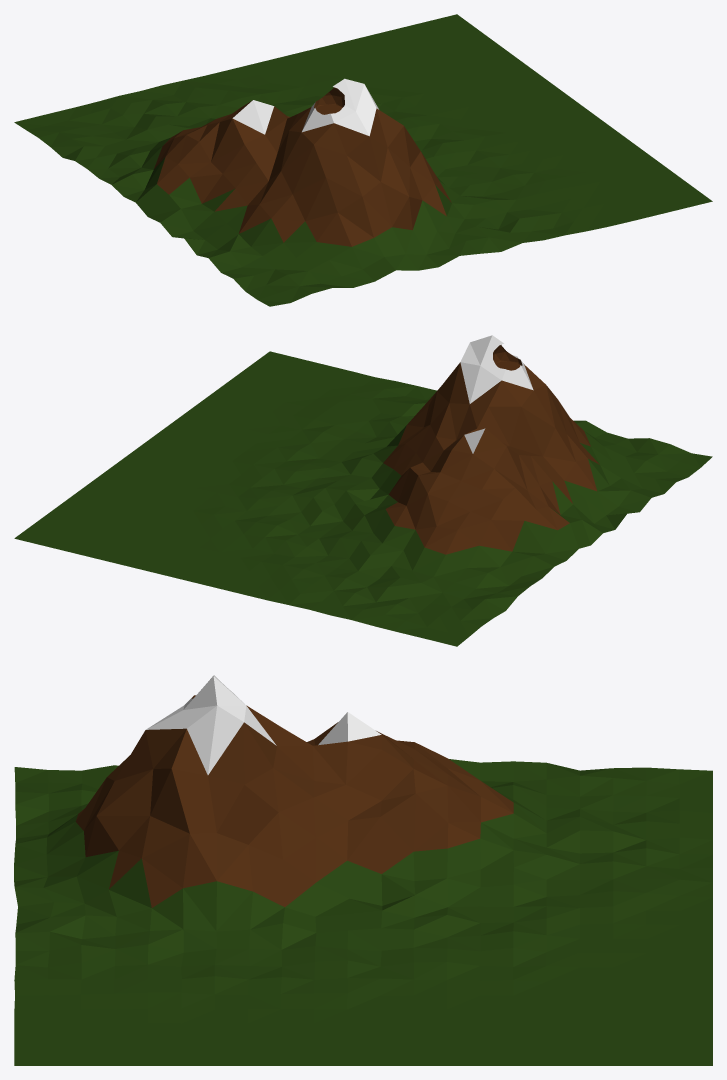
The model's file is mountain2.glb.
3 views of the same model, one above another, from view 1: azimuth 30°, elevation 25°; view 2: azimuth 150°, elevation 25°; view 3: azimuth 270°, elevation 25° (orthographic). The views are drawn at different scales.
Parts seen in each view (by area): view 1: Plane.004, Mountain top.001, Mountain top.002; view 2: Plane.004, Mountain top.001, Mountain top.002; view 3: Plane.004, Mountain top.002, Mountain top.001.
Boxes of the visible parts, x1,y1,x2,y2 form: Plane.004: [14, 14, 712, 306]; Mountain top.001: [289, 87, 403, 155]; Mountain top.002: [302, 78, 378, 136]; Plane.004: [14, 351, 712, 646]; Mountain top.001: [437, 345, 545, 406]; Mountain top.002: [460, 335, 533, 403]; Plane.004: [14, 712, 712, 1065]; Mountain top.002: [146, 675, 276, 774]; Mountain top.001: [145, 695, 281, 784].
Size of the model in its own units: 80 by 24.42 by 80.05.
